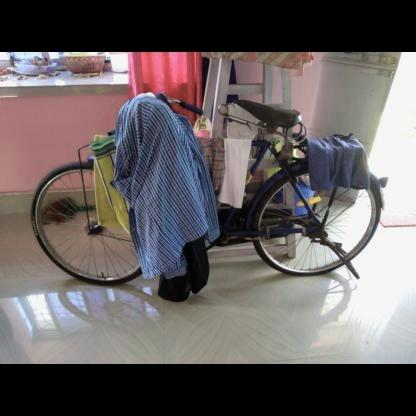Bicycle: (7, 77, 400, 303)
